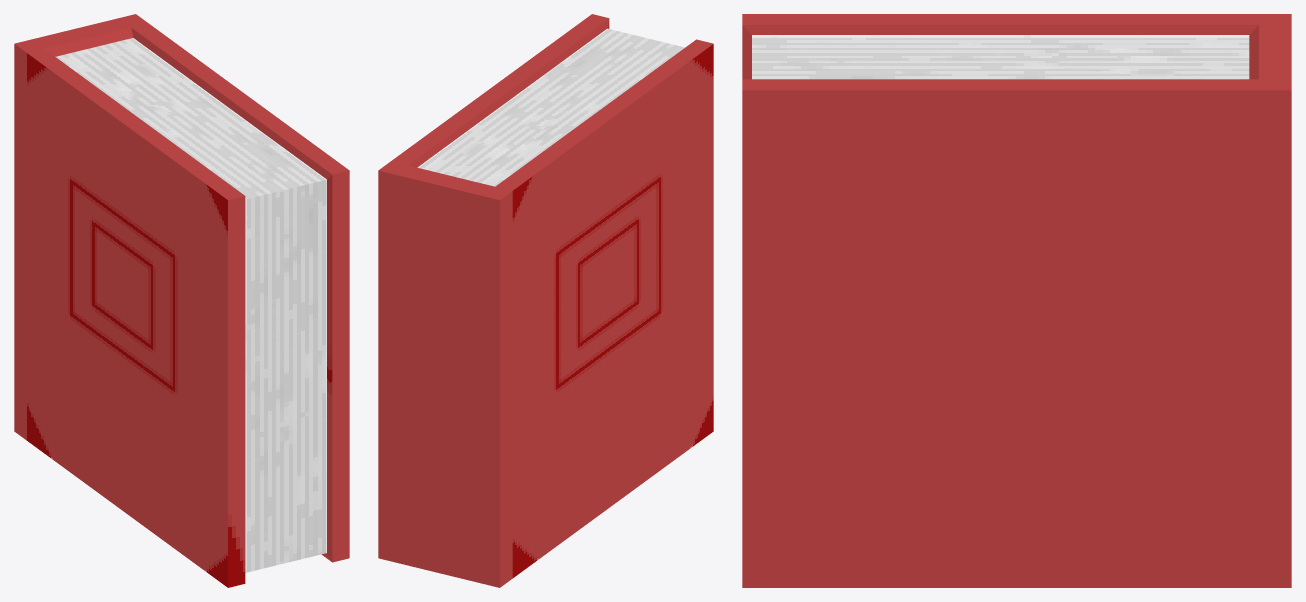
The model's file is Libros.glb.
3 views of the same model, side by side, from view 1: azimuth 30°, elevation 25°; view 2: azimuth 150°, elevation 25°; view 3: azimuth 270°, elevation 25° (orthographic). The views are drawn at different scales.
Parts seen in each view (by area): view 1: Libro; view 2: Libro; view 3: Libro.
Part boxes in pixels (box(x1,y1,x2,y2)): Libro: box(14, 14, 349, 587); Libro: box(378, 14, 713, 587); Libro: box(742, 14, 1291, 587).
Size of the model in its own units: 0.6568 by 2 by 2.
Materials: 1 (1 with a texture image).
